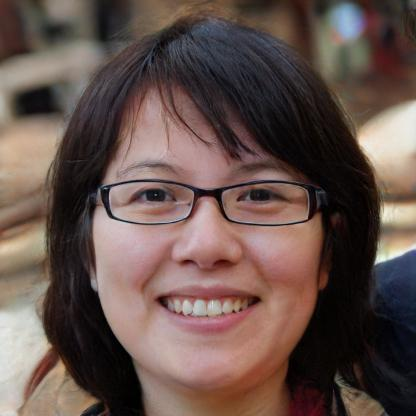glasses: (96, 172, 323, 232)
